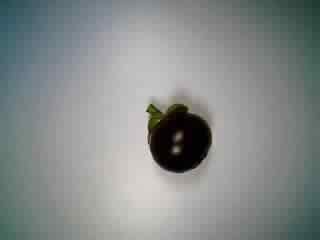mangosteen: (134, 95, 215, 180)
